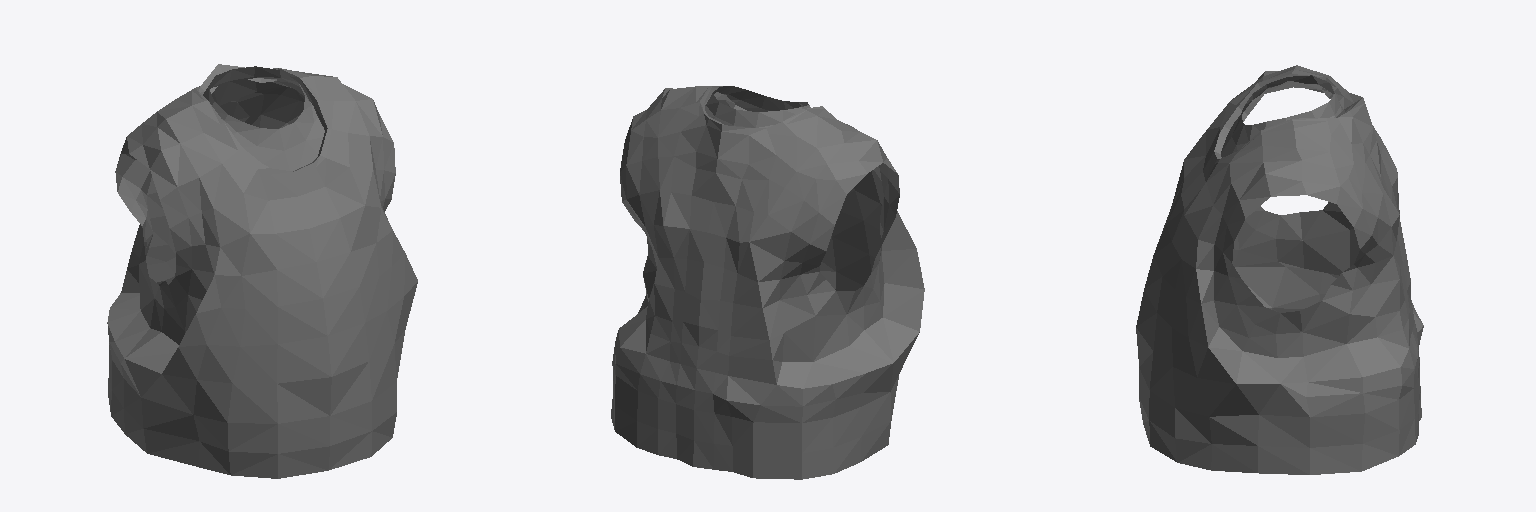
File: Torso.obj
The picture shows the model from 3 angles: view 1: azimuth 30°, elevation 25°; view 2: azimuth 150°, elevation 25°; view 3: azimuth 270°, elevation 25°; orthographic projection.
Parts seen in each view (by area): view 1: girl; view 2: girl; view 3: girl.
Boxes of the visible parts, <box> form: girl: <box>107,64,417,478</box>; girl: <box>611,86,924,479</box>; girl: <box>1136,65,1423,474</box>.
Size of the model in its own units: 28.9 by 35.56 by 27.99.